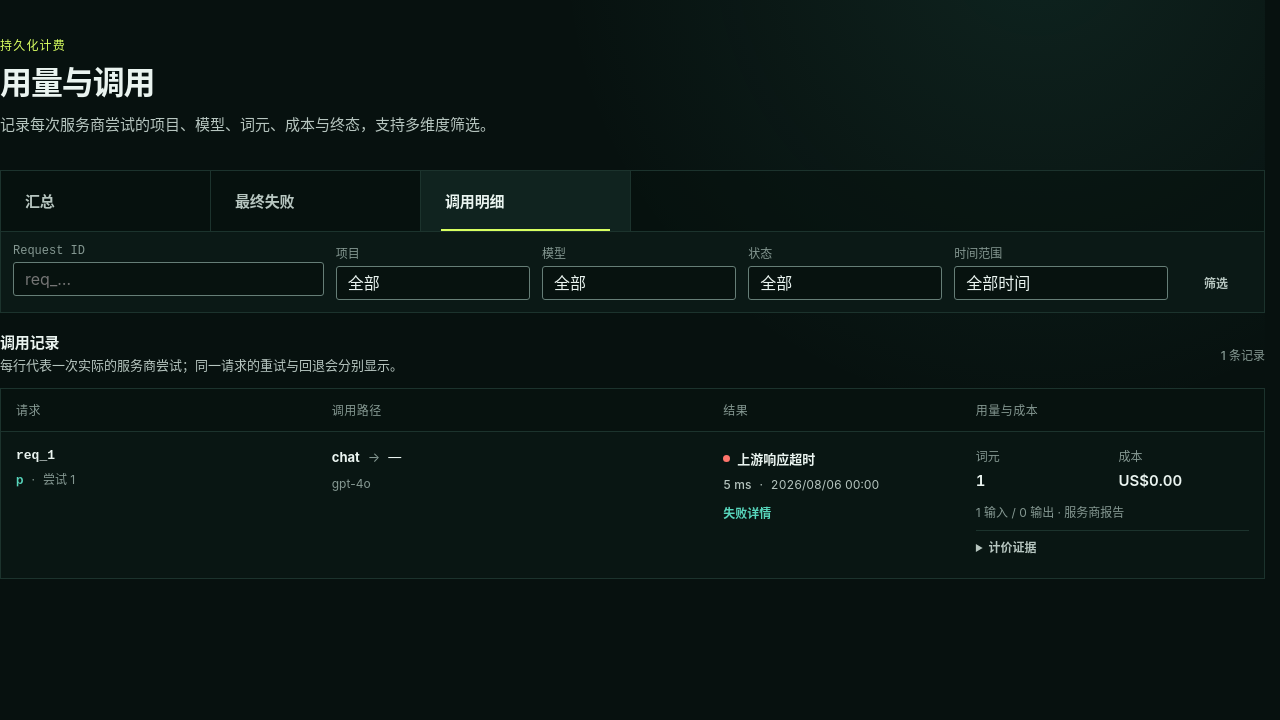
Test case: UsagePage failure detail › says which target and which retry produced the failure
This screenshot has width=1280, height=720.
Expected: the text "上游响应超时" is shown, [723,451,815,468]
Click the button "失败详情": point(747, 514) [723,506,771,522]
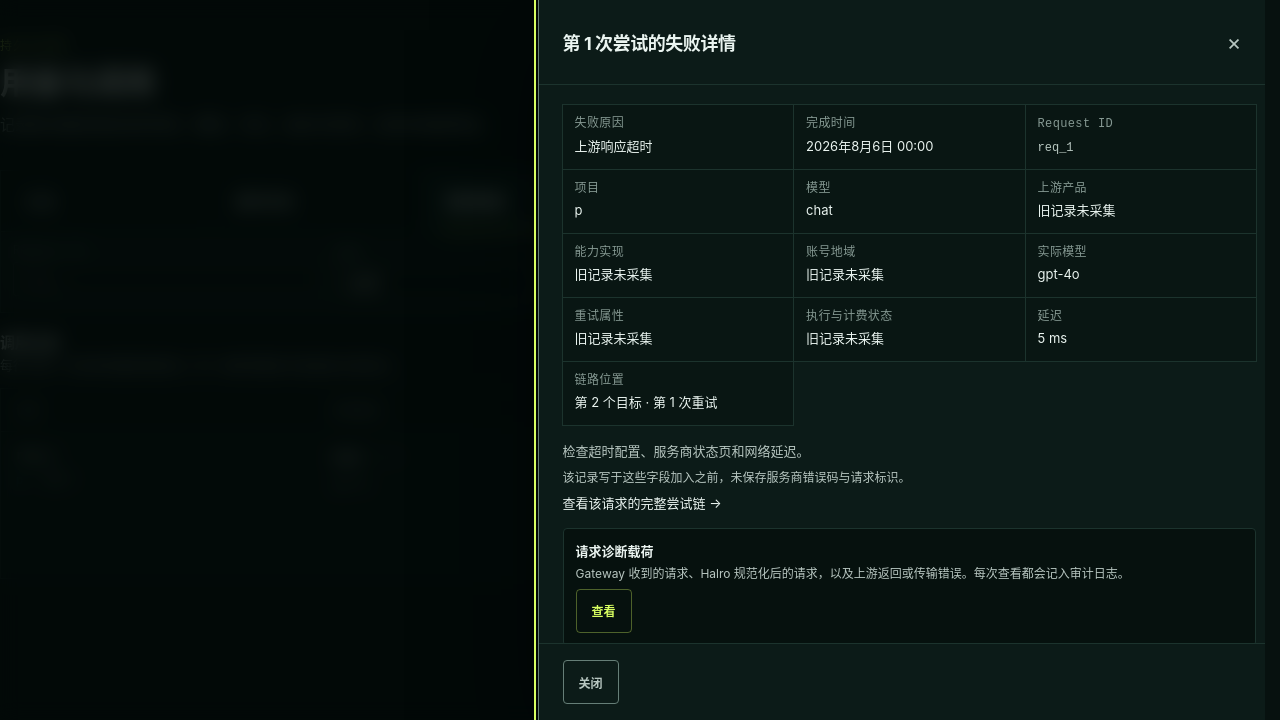
Now the text "第 2 个目标 · 第 1 次重试" is shown, box [575,394,718,410]
